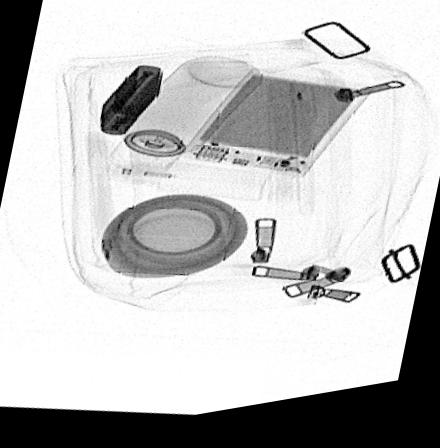Lighter: (99, 68, 160, 138)
Powerbank: (173, 74, 375, 186)
Sprayer: (107, 62, 265, 179)
